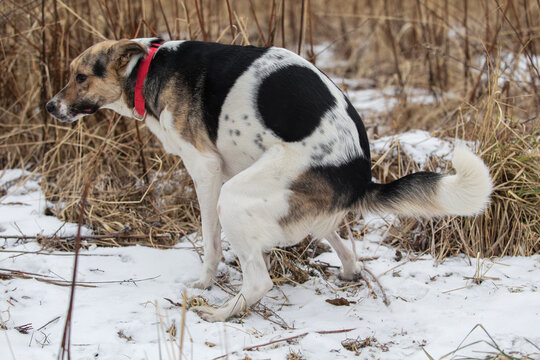dog_pooping: (44, 35, 497, 328)
